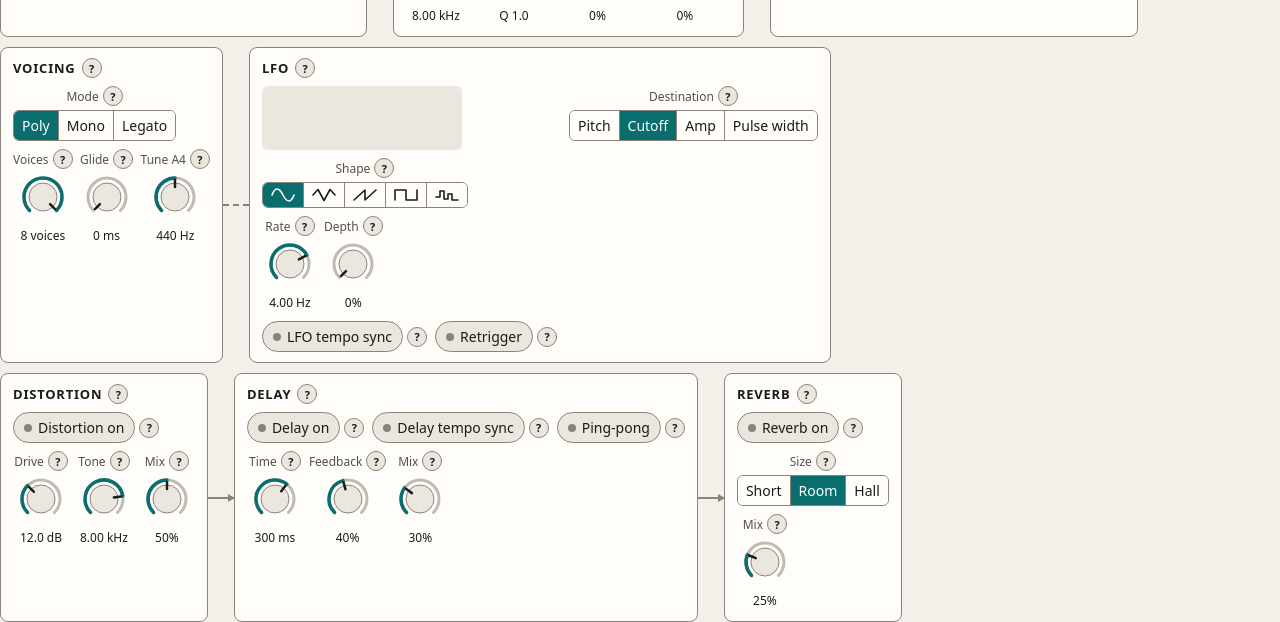
Test: conditional controls › tempo sync swaps the LFO rate knob for a division select, and the delay time likewise
(page scrolled)
Expected: the slider named "Rate" is shown, top-left (266, 240), bottom-right (314, 288)
Click the switch labelled "LFO tempo sync" at (332, 336), box top-left (262, 321), bottom-right (403, 352)
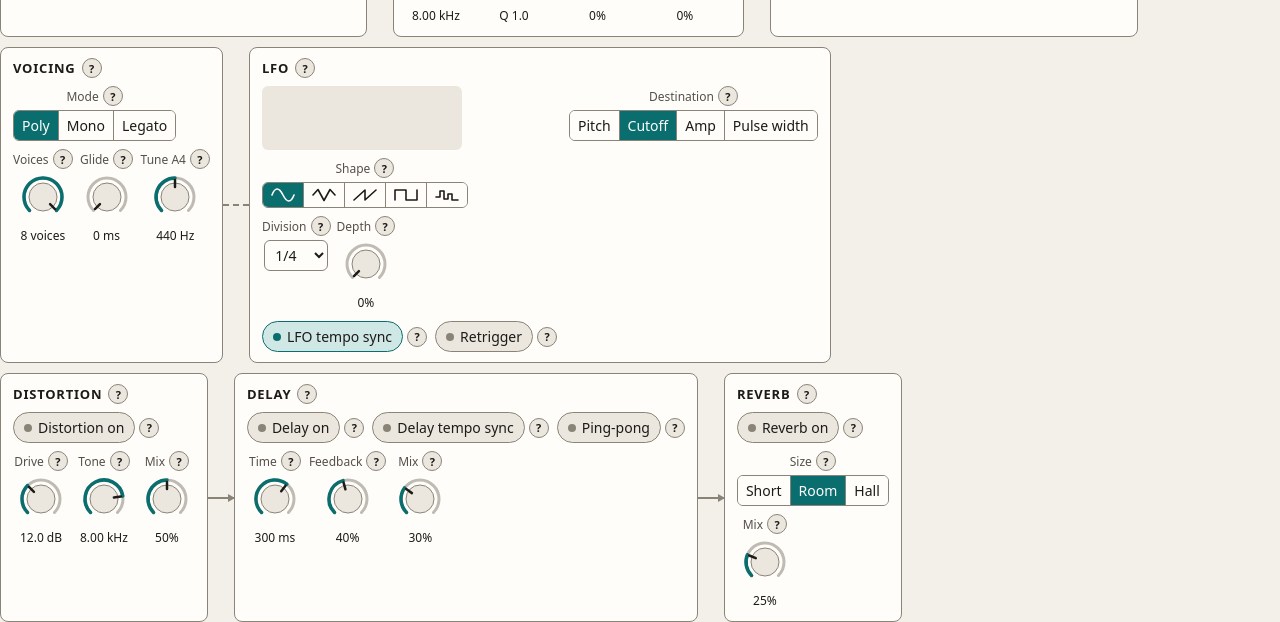
Expected: the text "Rate" is gone
Expected: the dropdown named "LFO division" is shown, top-left (264, 240), bottom-right (328, 271)
Click the switch labelled "Delay tempo sync" at (449, 428), box top-left (372, 412), bottom-right (525, 443)
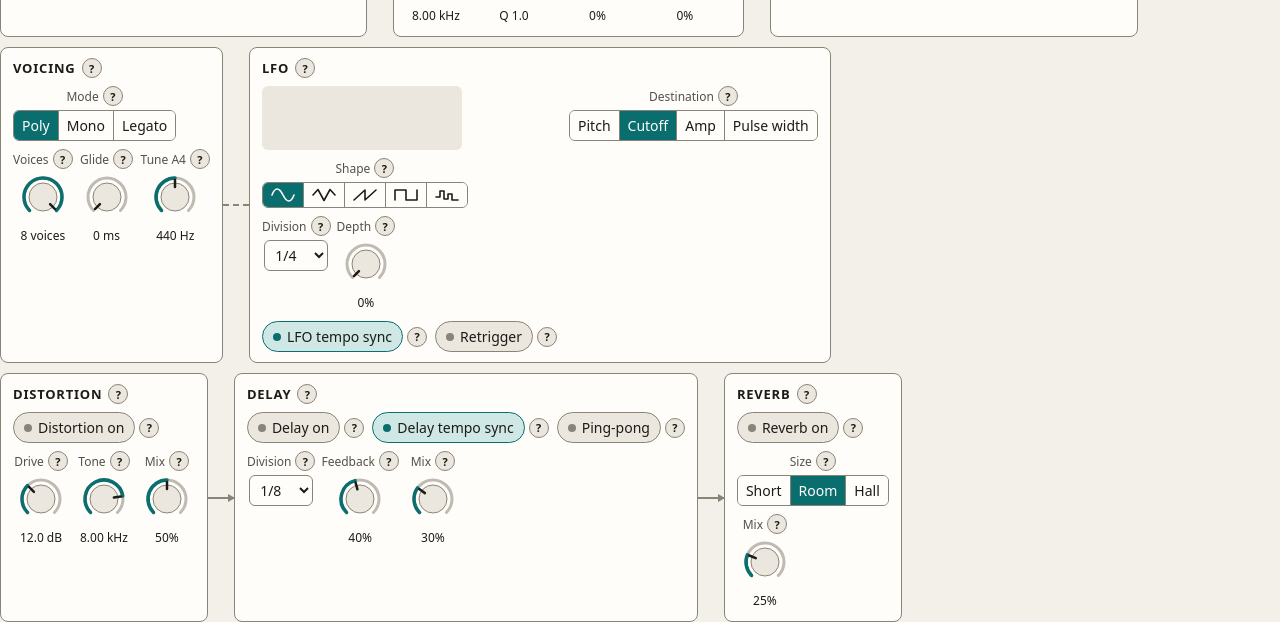
Expected: the text "Time" is gone
Expected: the dropdown named "Delay division" is shown, top-left (249, 475), bottom-right (313, 506)
